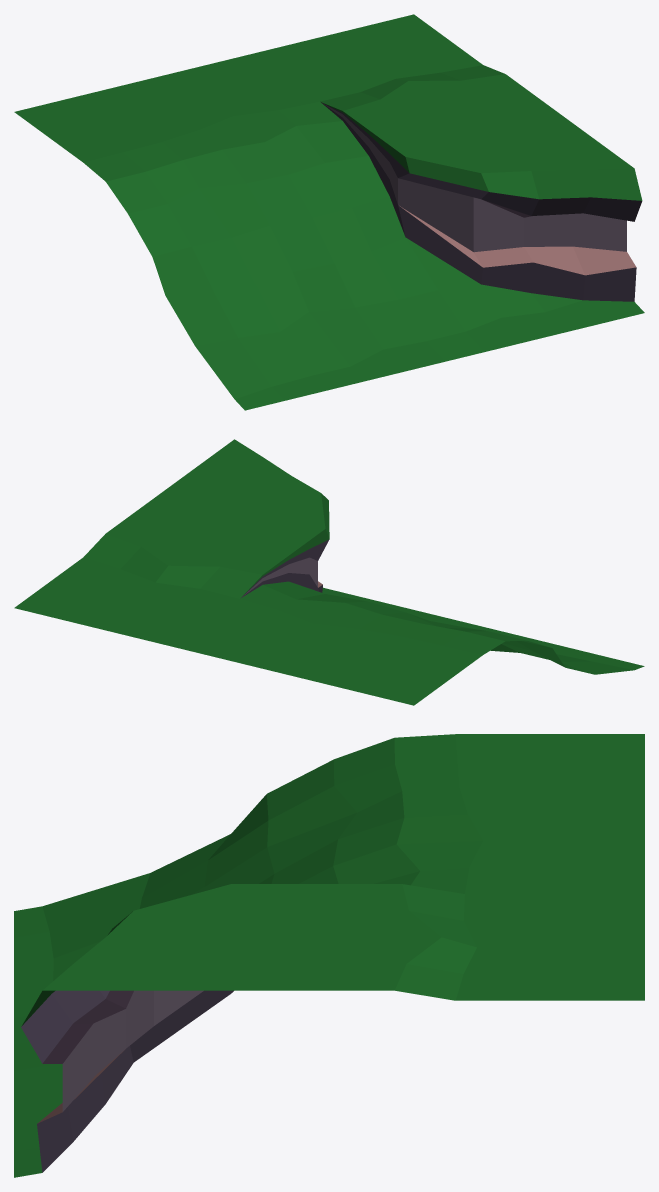
File: Barranco_a_Cesped_SubidaD.fbx
The picture shows the model from 3 angles, top to bottom: view 1: azimuth 30°, elevation 25°; view 2: azimuth 150°, elevation 25°; view 3: azimuth 270°, elevation 25°; orthographic projection. The views are drawn at different scales.
Parts seen in each view (by area): view 1: Barranco_a_Cesped_SubidaD; view 2: Barranco_a_Cesped_SubidaD; view 3: Barranco_a_Cesped_SubidaD.
Part boxes in pixels (x1,y1,x2,y2): Barranco_a_Cesped_SubidaD: (14, 14, 644, 410); Barranco_a_Cesped_SubidaD: (14, 439, 644, 705); Barranco_a_Cesped_SubidaD: (14, 734, 644, 1177).
Size of the model in its own units: 2000 by 654 by 2000.
